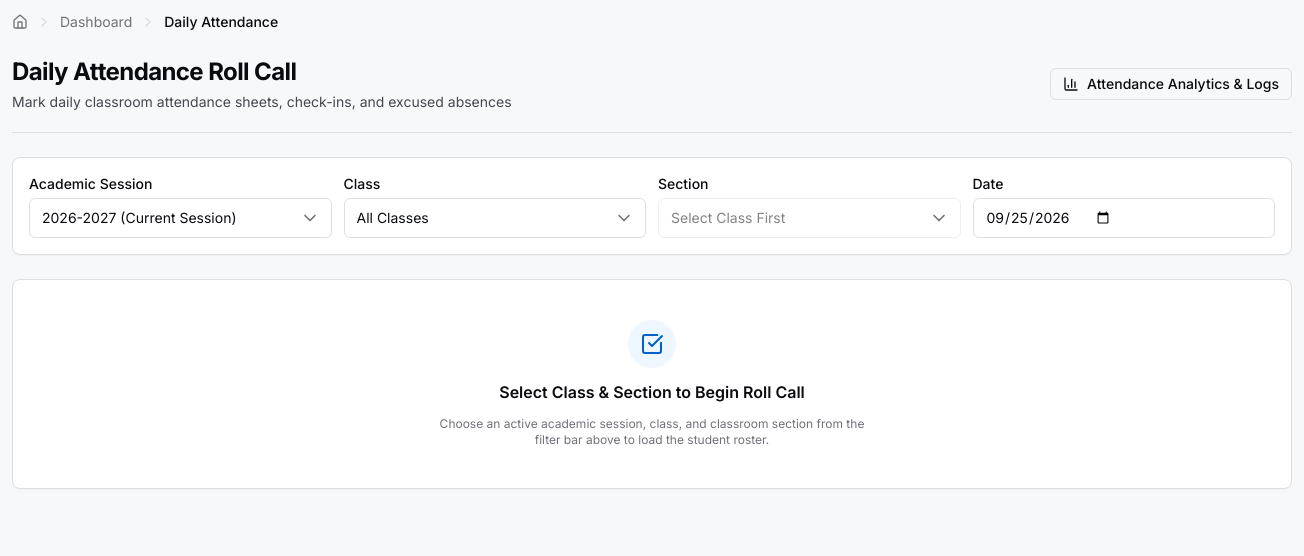
Test case: DailyAttendancePage › should render roster sheet when class and section are selected
// Select Class
Select "Grade 10" in the dropdown labelled "Class": point(495, 218) [344, 198, 646, 238]
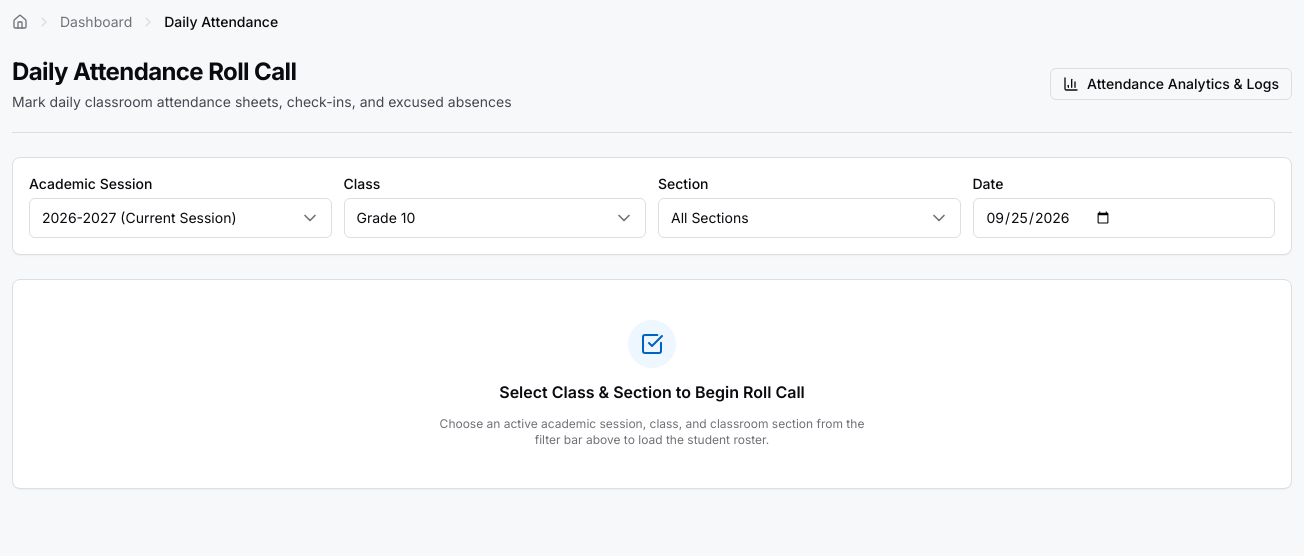
Select "Section A" in the dropdown labelled "Section": point(809, 218) [658, 198, 960, 238]
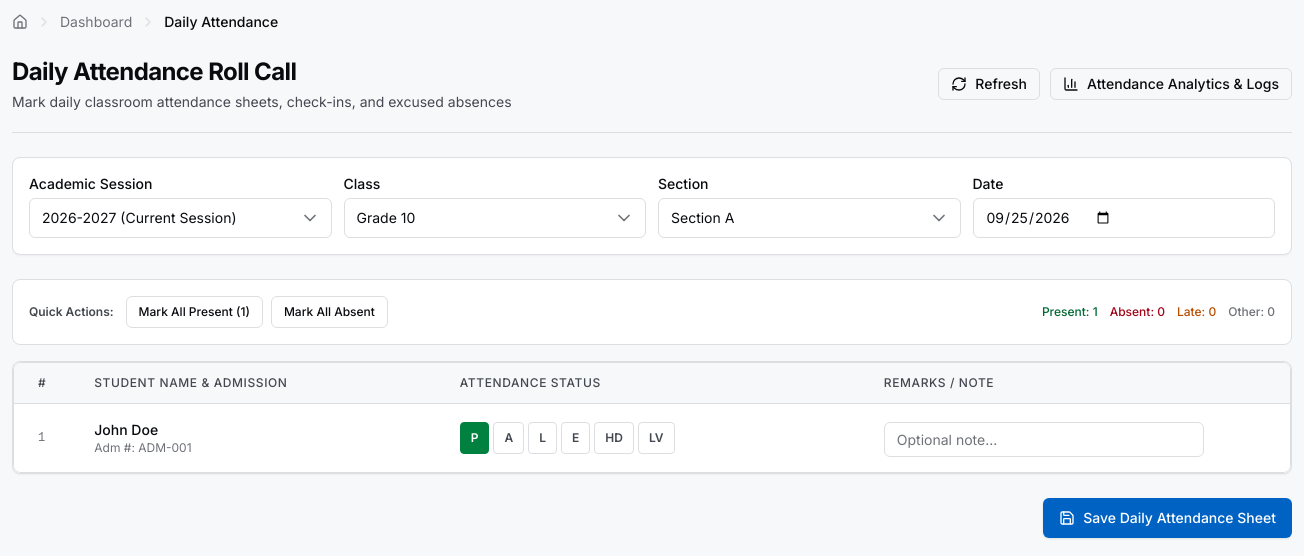
Check: the text "John Doe" is shown, box [94, 421, 158, 438]
Check: the button "Save Daily Attendance Sheet" is shown, box [1043, 498, 1292, 538]
